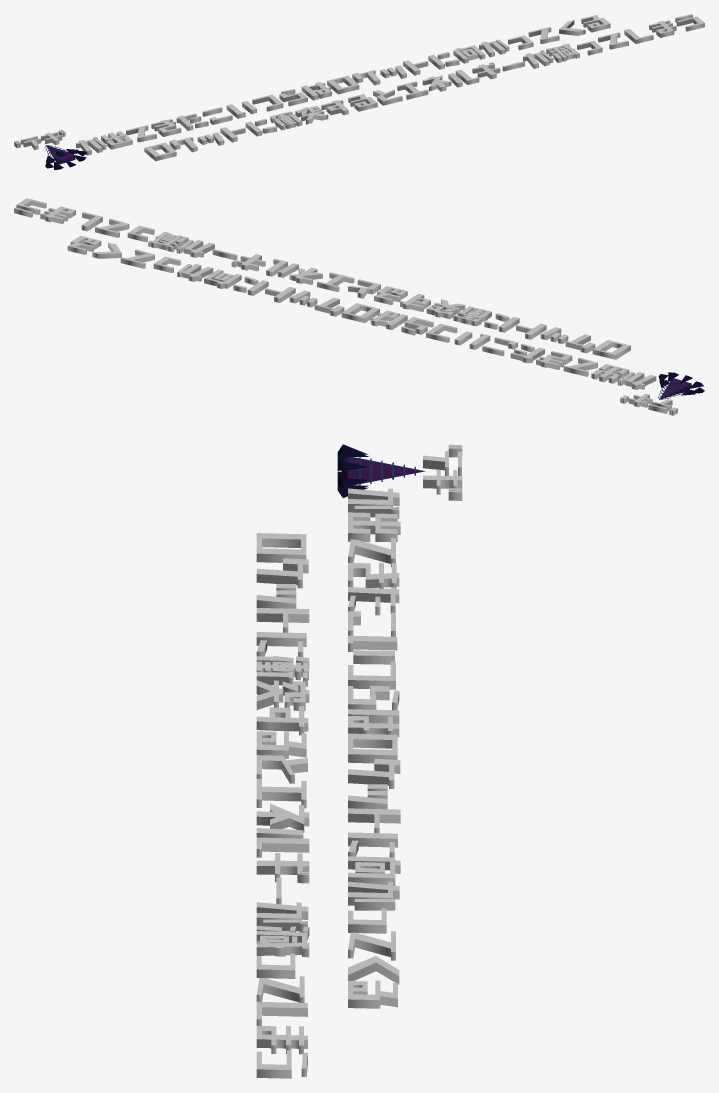
File: tutorialText8.obj
3 views of the same model, one above another, from view 1: azimuth 30°, elevation 25°; view 2: azimuth 150°, elevation 25°; view 3: azimuth 270°, elevation 25° (orthographic). The views are drawn at different scales.
Visible parts, largest first — view 1: Text.002, Text.004, トーラス.004, Text.003; view 2: Text.002, Text.004, トーラス.004, Text.003; view 3: Text.002, Text.004, トーラス.004, Text.003.
Part boxes in pixels (<box>): Text.002: <box>144,14,704,161</box>; Text.004: <box>76,15,610,155</box>; トーラス.004: <box>44,145,86,169</box>; Text.003: <box>14,129,65,149</box>; Text.002: <box>14,198,630,359</box>; Text.004: <box>67,235,656,389</box>; トーラス.004: <box>658,372,704,399</box>; Text.003: <box>620,393,677,415</box>; Text.002: <box>256,533,309,1078</box>; Text.004: <box>348,488,400,1008</box>; トーラス.004: <box>337,444,425,497</box>; Text.003: <box>423,444,462,500</box>.
Bounding box in the file's own units: 15.58 × 0.3951 × 2.17.
